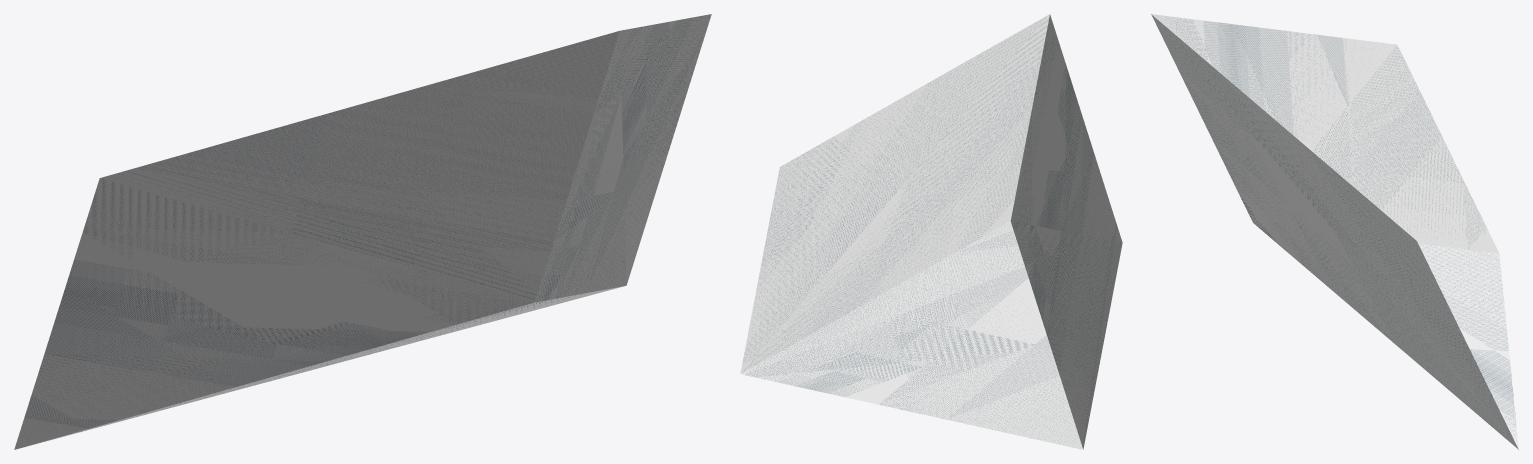
The model's file is Corner2.fbx.
3 views of the same model, side by side, from view 1: azimuth 30°, elevation 25°; view 2: azimuth 150°, elevation 25°; view 3: azimuth 270°, elevation 25° (orthographic). The views are drawn at different scales.
Visible parts, largest first — view 1: Group1; view 2: Group1; view 3: Group1.
Part boxes in pixels (x1,y1,x2,y2): Group1: [14, 14, 711, 449]; Group1: [740, 14, 1122, 449]; Group1: [1151, 14, 1518, 449].
Bounding box in the file's own units: 8.06 × 6.53 × 6.33.
